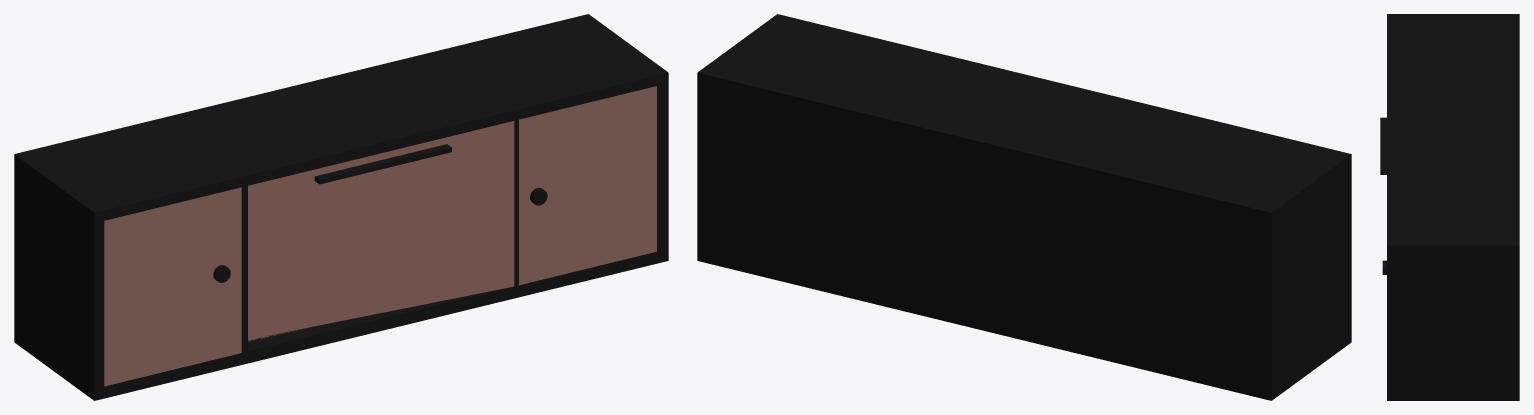
The model's file is lowCabinet.fbx.
The picture shows the model from 3 angles, left to right: view 1: azimuth 30°, elevation 25°; view 2: azimuth 150°, elevation 25°; view 3: azimuth 270°, elevation 25°; orthographic projection. The views are drawn at different scales.
Visible parts, largest first — view 1: Cube, Cube.001; view 2: Cube; view 3: Cube, Cube.001.
Part boxes in pixels (bbox=[...]): Cube: bbox=[14, 14, 668, 400]; Cube.001: bbox=[314, 144, 451, 184]; Cube: bbox=[697, 14, 1351, 400]; Cube: bbox=[1387, 14, 1519, 400]; Cube.001: bbox=[1380, 117, 1386, 174].
Size of the model in its own units: 869 by 272 by 221.
